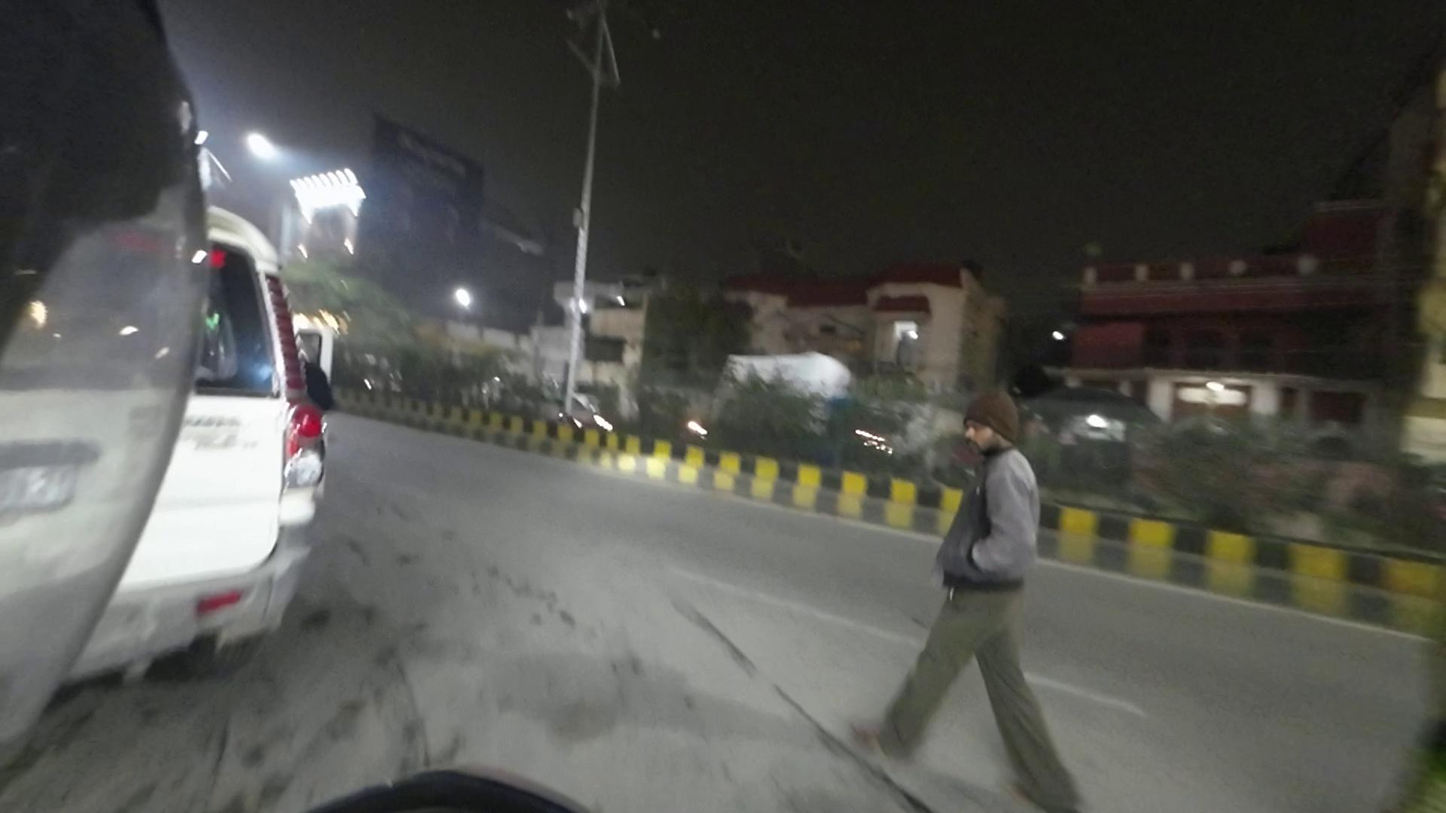streetlight: (632, 13, 669, 44)
